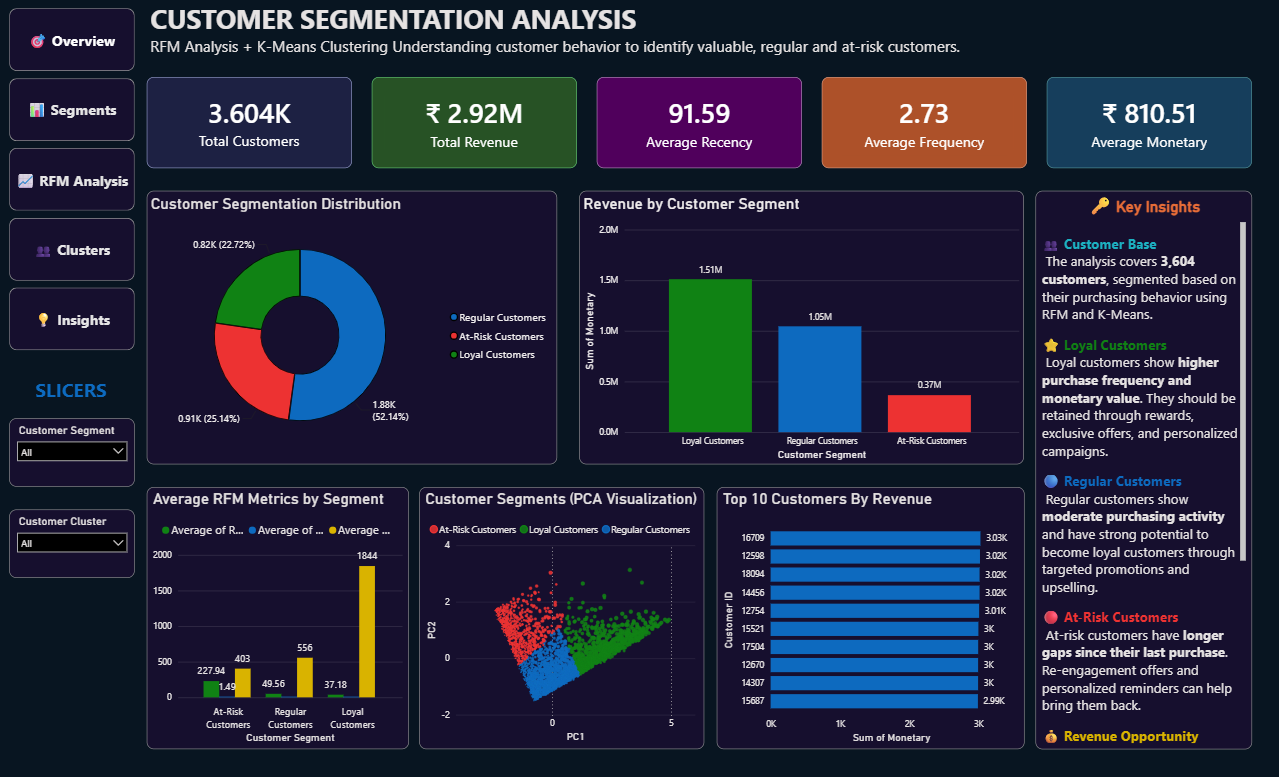

This screenshot's page, from the dashboard's own definition file:
{"tool":"powerbi","page":{"name":"🎯 Overview","canvas":[1800,1100],"ordinal":0},"visuals":[{"type":"cardVisual","fields":{"Data":["Count(Customer_Segments.CustomerID)"]},"box":[208,112,288,128],"z":0},{"type":"cardVisual","fields":{"Data":["Sum(Customer_Segments.Monetary)"]},"box":[524,112,288,128],"z":1000},{"type":"cardVisual","fields":{"Data":["Avg(Customer_Segments.Recency)"]},"box":[840,112,288,128],"z":2000},{"type":"cardVisual","fields":{"Data":["Avg(Customer_Segments.Monetary)"]},"box":[1472,112,288,128],"z":3000},{"type":"cardVisual","fields":{"Data":["Avg(Customer_Segments.Frequency)"]},"box":[1156,112,288,128],"z":4000},{"type":"donutChart","title":" Customer Segmentation Distribution","fields":{"Category":["Customer_Segments.CustomerSegment"],"Y":["Count(Customer_Segments.CustomerID)"]},"box":[208,272,576,384],"z":5000},{"type":"clusteredColumnChart","title":"Revenue by Customer Segment","fields":{"Category":["Customer_Segments.CustomerSegment"],"Y":["Sum(Customer_Segments.Monetary)"]},"box":[816,272,624,384],"z":6000},{"type":"clusteredColumnChart","title":"Average RFM  Metrics by Segment","fields":{"Category":["Customer_Segments.CustomerSegment"],"Y":["Avg(Customer_Segments.Recency)","Avg(Customer_Segments.Frequency)","Avg(Customer_Segments.Monetary)"]},"box":[208,688,368,368],"z":7000},{"type":"scatterChart","title":"Customer Segments (PCA Visualization)","fields":{"X":["Sum(Customer_Segments_PowerBI.PC1)"],"Y":["Sum(Customer_Segments_PowerBI.PC2)"],"Series":["Customer_Segments_PowerBI.CustomerSegment"],"Size":["Sum(Customer_Segments_PowerBI.Monetary)"],"Category":["Customer_Segments_PowerBI.CustomerID"]},"box":[592,688,400,368],"z":8000},{"type":"clusteredBarChart","title":"Top 10 Customers By Revenue","fields":{"Category":["Customer_Segments.CustomerID"],"Y":["Sum(Customer_Segments.Monetary)"]},"box":[1008,688,432,368],"z":9000},{"type":"textbox","title":"🔑 Key Insights","box":[1456,272,304,784],"z":10000},{"type":"textbox","box":[208,0,1184,96],"z":11000},{"type":"slicer","fields":{"Values":["Customer_Segments.CustomerSegment"]},"box":[16,592,176,96],"z":12000},{"type":"textbox","box":[48,528,128,48],"z":13000},{"type":"slicer","fields":{"Values":["Customer_Segments.Cluster"]},"box":[16,720,176,96],"z":14000},{"type":"pageNavigator","box":[16,16,176,480],"z":15000}]}

Visuals, with their boxes in screenshot pixels (x1, y1, x2, y2), scaled from the page's 1800x1100 canvas onto the 1279x777 screenshot:
cardVisual - Count(Customer_Segments.CustomerID): [x1=148, y1=79, x2=352, y2=170]
cardVisual - Sum(Customer_Segments.Monetary): [x1=372, y1=79, x2=577, y2=170]
cardVisual - Avg(Customer_Segments.Recency): [x1=597, y1=79, x2=802, y2=170]
cardVisual - Avg(Customer_Segments.Monetary): [x1=1046, y1=79, x2=1251, y2=170]
cardVisual - Avg(Customer_Segments.Frequency): [x1=821, y1=79, x2=1026, y2=170]
" Customer Segmentation Distribution" donutChart: [x1=148, y1=192, x2=557, y2=463]
"Revenue by Customer Segment" clusteredColumnChart: [x1=580, y1=192, x2=1023, y2=463]
"Average RFM  Metrics by Segment" clusteredColumnChart: [x1=148, y1=486, x2=409, y2=746]
"Customer Segments (PCA Visualization)" scatterChart: [x1=421, y1=486, x2=705, y2=746]
"Top 10 Customers By Revenue" clusteredBarChart: [x1=716, y1=486, x2=1023, y2=746]
"🔑 Key Insights" textbox: [x1=1035, y1=192, x2=1251, y2=746]
textbox: [x1=148, y1=0, x2=989, y2=68]
slicer - Customer_Segments.CustomerSegment: [x1=11, y1=418, x2=136, y2=486]
textbox: [x1=34, y1=373, x2=125, y2=407]
slicer - Customer_Segments.Cluster: [x1=11, y1=509, x2=136, y2=576]
pageNavigator: [x1=11, y1=11, x2=136, y2=350]
